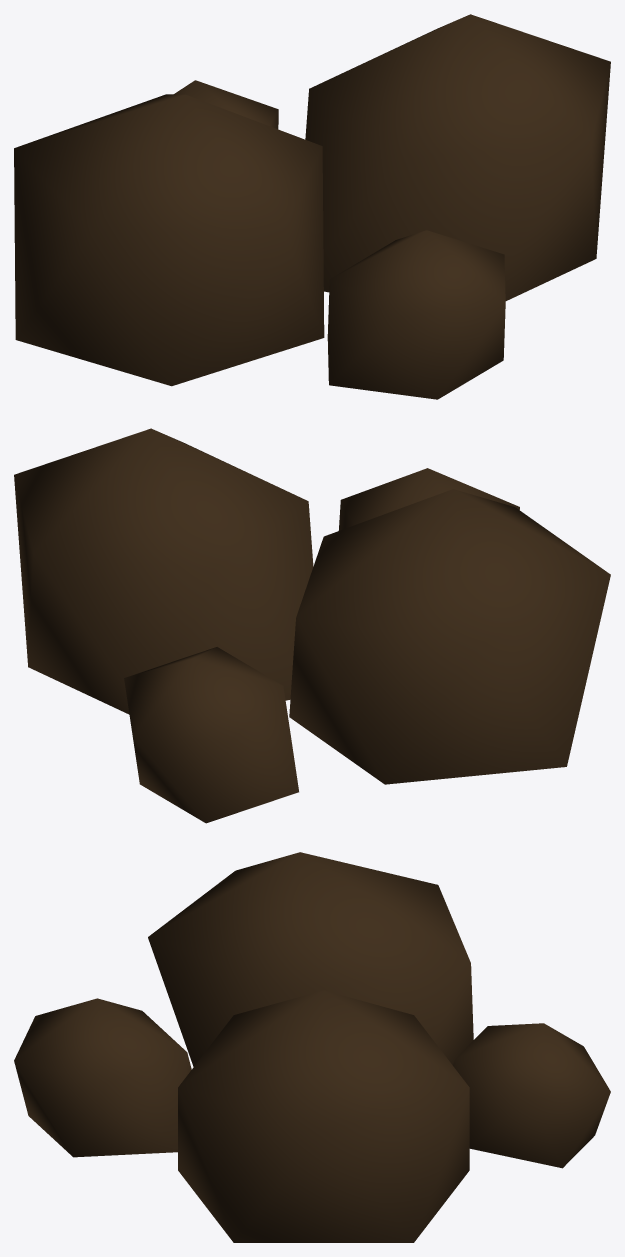
File: RooPoo.fbx
3 renders of one model, top to bottom at view 1: azimuth 30°, elevation 25°; view 2: azimuth 150°, elevation 25°; view 3: azimuth 270°, elevation 25°, orthographic. The views are drawn at different scales.
Parts seen in each view (by area): view 1: Shell; view 2: Shell; view 3: Shell.
Part boxes in pixels (box(x1,y1,x2,y2)): Shell: box(14, 14, 610, 399); Shell: box(14, 428, 610, 823); Shell: box(14, 852, 610, 1242).
Size of the model in its own units: 0.7479 by 0.3103 by 0.7039.
